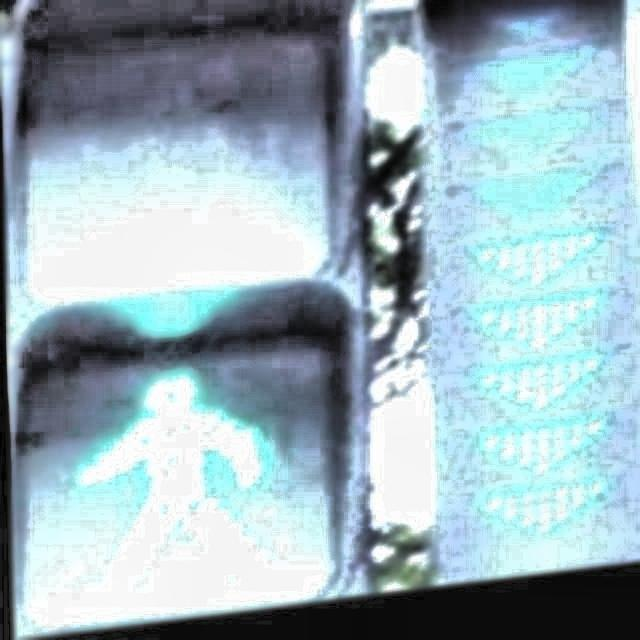semaforo pedestre: (2, 0, 540, 640)
